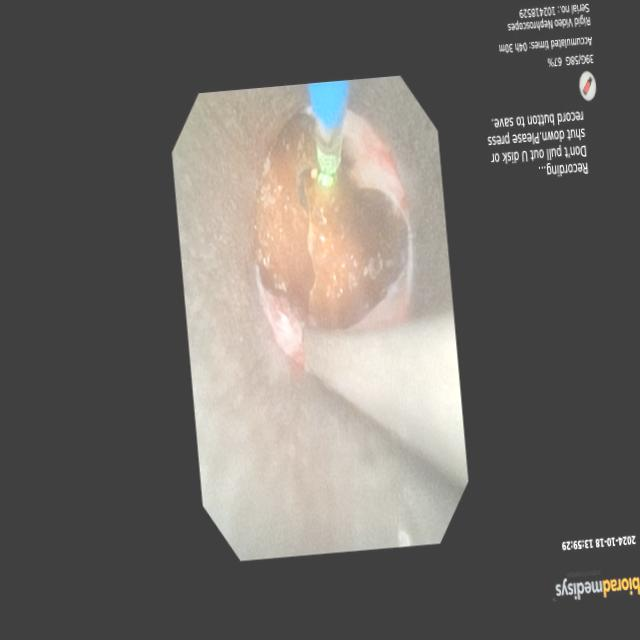laser-fibre: (315, 122, 342, 177)
laser_dot: (317, 173, 333, 187)
stone-new: (254, 113, 407, 329)
